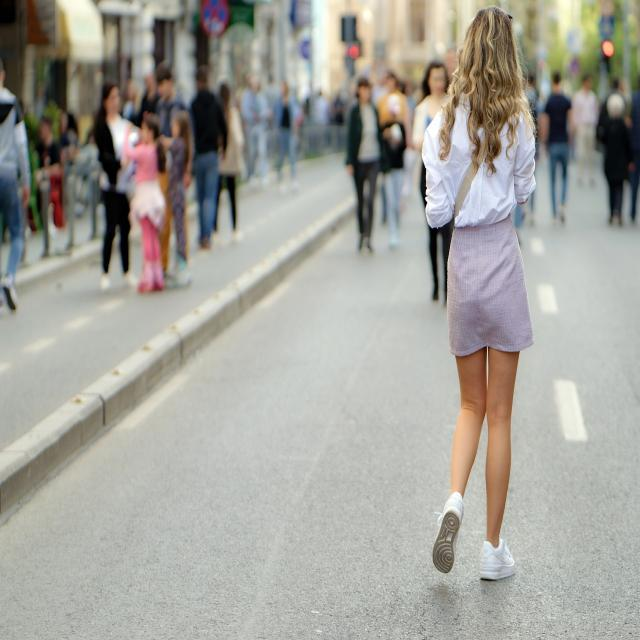person: (421, 0, 542, 598), (0, 46, 38, 318), (416, 47, 455, 309), (345, 64, 387, 262)
